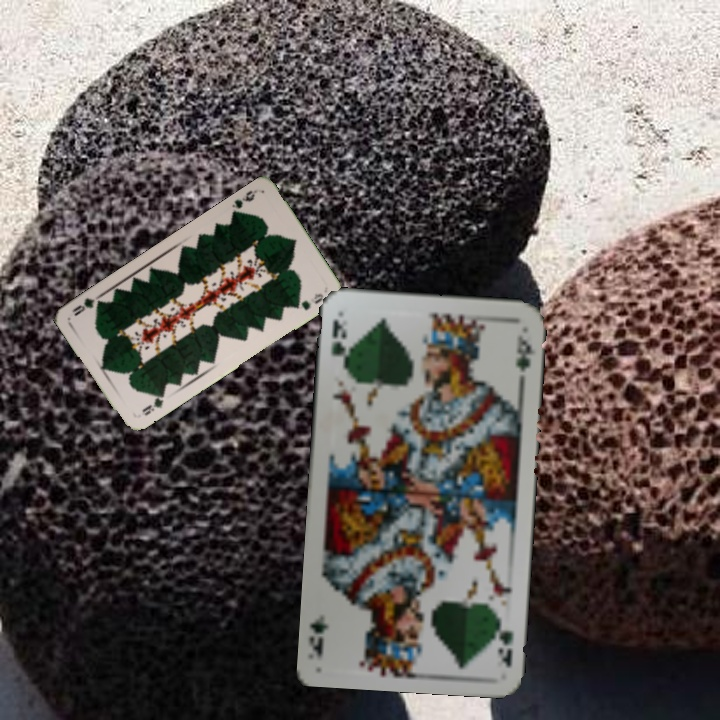G9: (227, 186, 260, 218), (138, 388, 167, 418)
GK: (491, 612, 517, 670), (326, 315, 351, 372)
